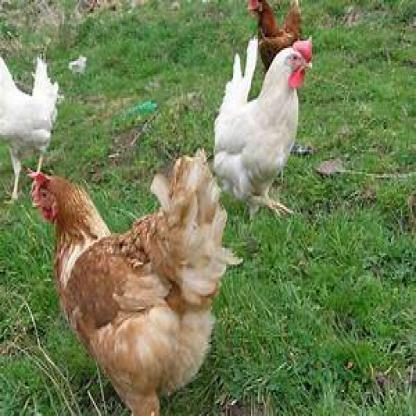chicken: (29, 176, 229, 414), (220, 44, 310, 220), (2, 51, 48, 202)
